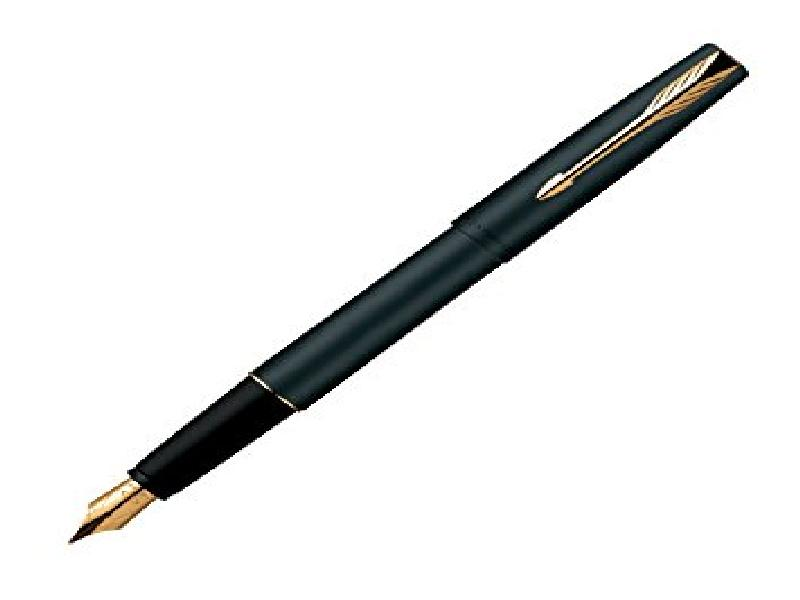pen: (63, 35, 755, 546)
